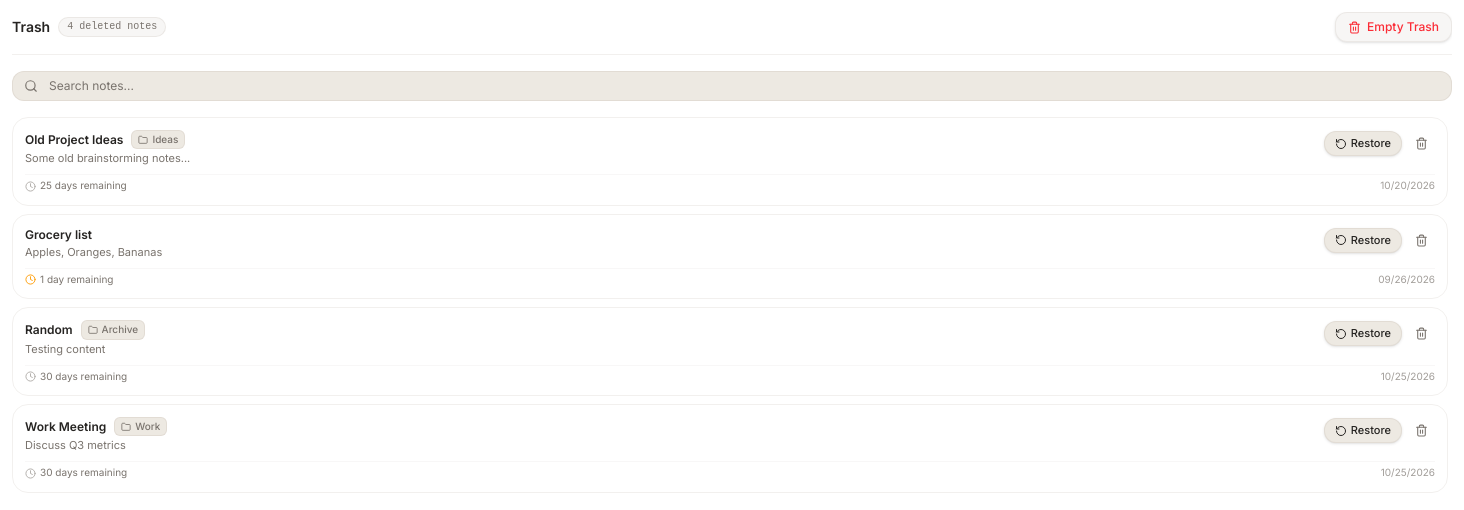
TrashSection › filters trash notes by search term when search input is used
In the field with placeholder "Search notes...": (732, 86) [12, 71, 1452, 101], type "Grocery"
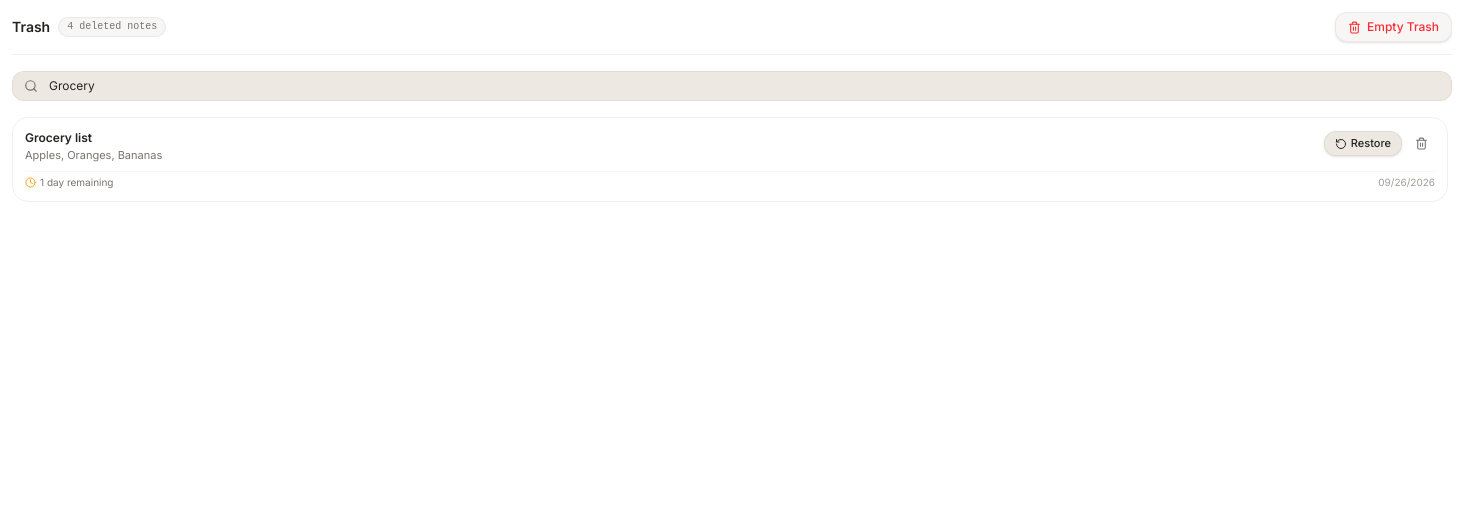
Expected: the text "Grocery list" is shown, [25, 130, 92, 146]
Now the text "Old Project Ideas" is gone
Now the text "Work Meeting" is gone
